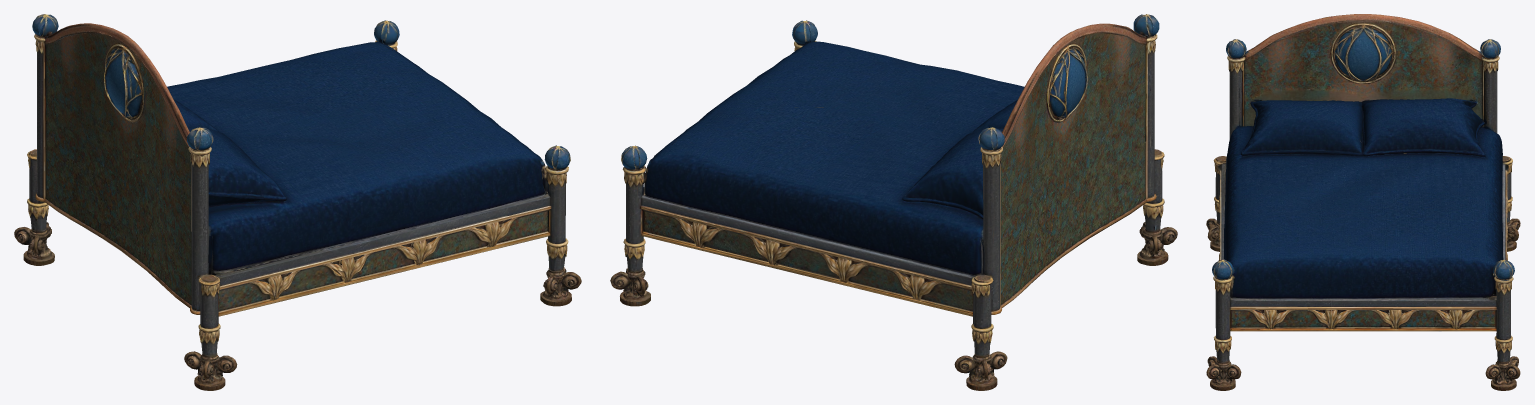
File: HY-05_bed_game.glb
3 views of the same model, side by side, from view 1: azimuth 30°, elevation 25°; view 2: azimuth 150°, elevation 25°; view 3: azimuth 270°, elevation 25° (orthographic). The views are drawn at different scales.
Parts seen in each view (by area): view 1: HY-05_bed; view 2: HY-05_bed; view 3: HY-05_bed.
Part boxes in pixels (x1=…): HY-05_bed: x1=14, y1=14, x2=581, y2=390; HY-05_bed: x1=610, y1=14, x2=1177, y2=390; HY-05_bed: x1=1206, y1=14, x2=1520, y2=390.
Bounding box in the file's own units: 2.15 × 1.55 × 1.89.
Materials: 1 (1 with a texture image).
